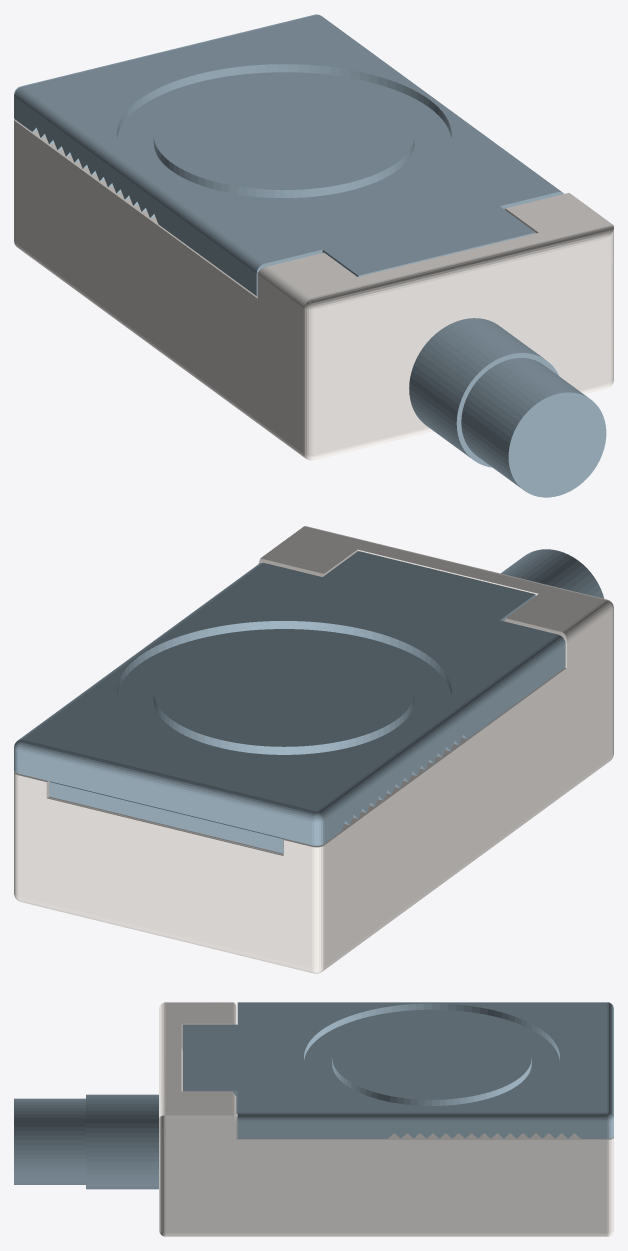
3 views of the same model, one above another, from view 1: azimuth 30°, elevation 25°; view 2: azimuth 150°, elevation 25°; view 3: azimuth 270°, elevation 25° (orthographic). The views are drawn at different scales.
Parts seen in each view (by area): view 1: Node1; view 2: Node1; view 3: Node1.
Part boxes in pixels (x1,y1,x2,y2): Node1: [14, 14, 613, 497]; Node1: [14, 526, 613, 973]; Node1: [14, 1002, 613, 1236].
Bounding box in the file's own units: 60 × 30.82 × 132.
